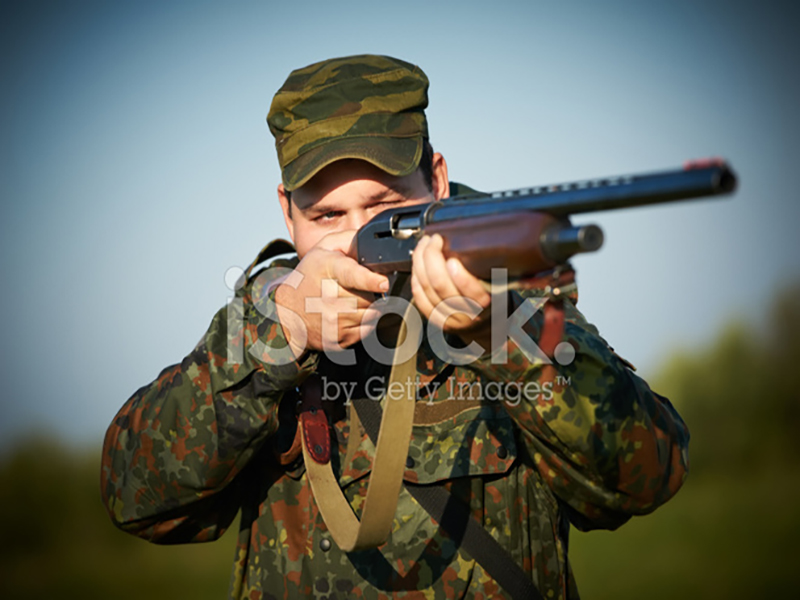cacciatore: (246, 69, 734, 256)
